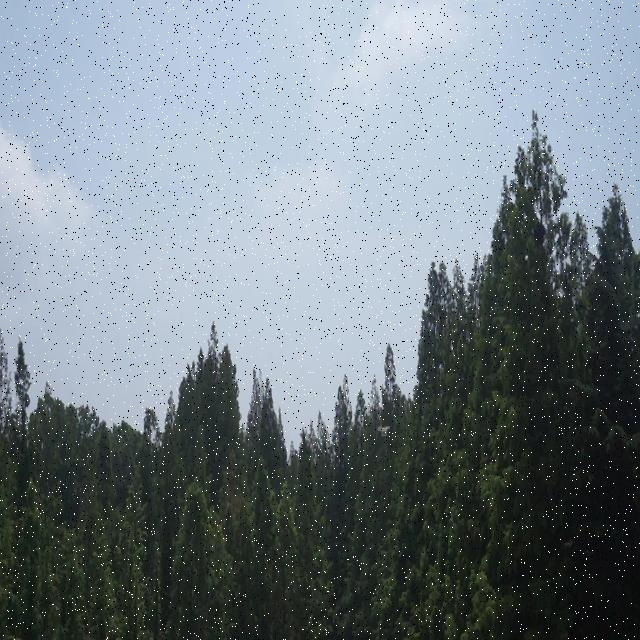UAV: (378, 426, 392, 437)
